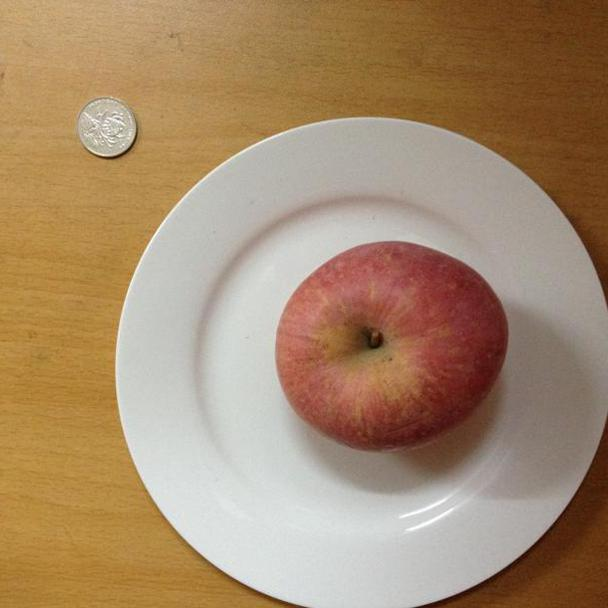apple: (273, 241, 508, 454)
